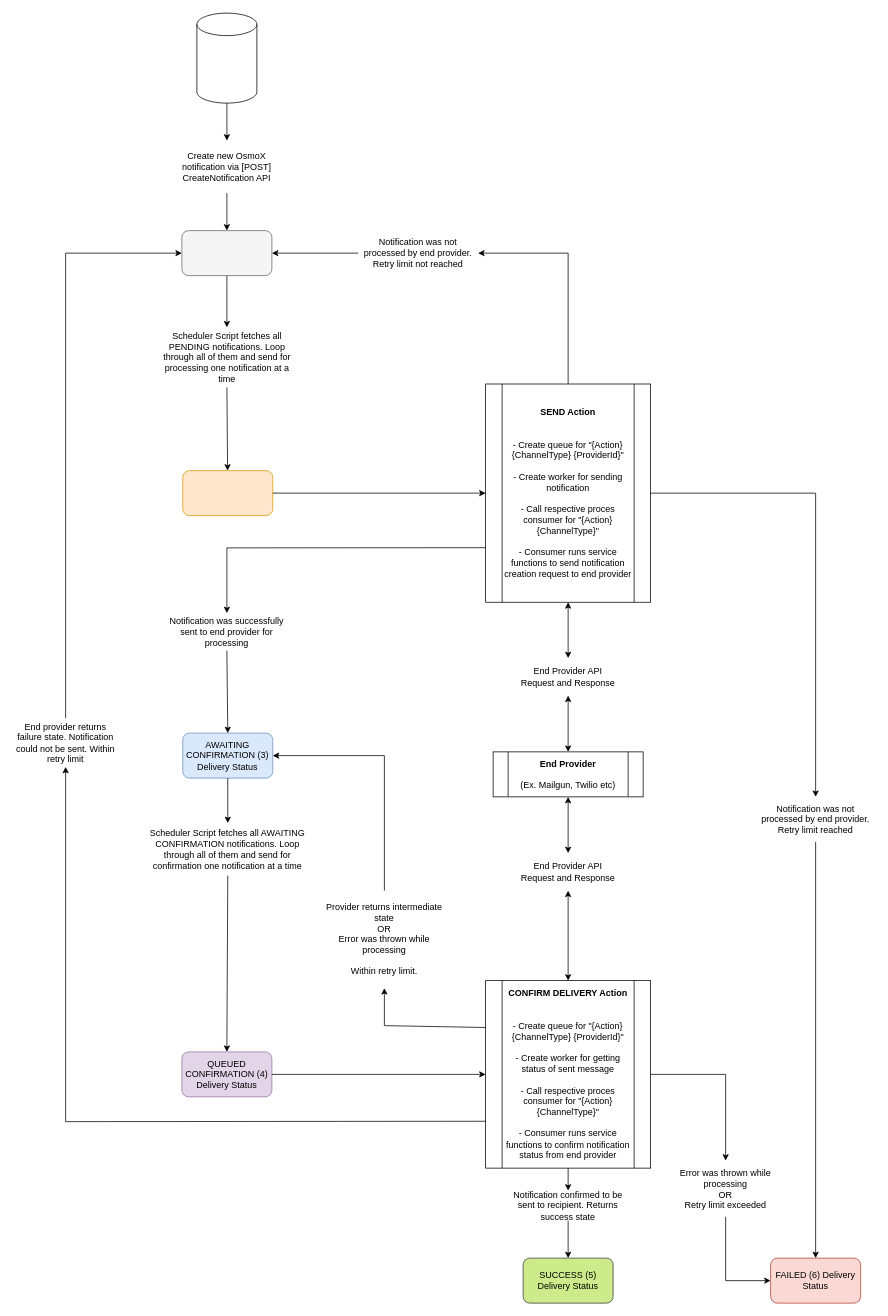
Some shapes in this 888 by 1316 pixel diagram are drawn without their labels. The box of each missing label's shape, as (x1, y1, x2, y2) in pixels:
IN PROGRESS (2) Delivery Status: (182, 470, 273, 516)
PENDING (1) Delivery Status: (181, 230, 272, 276)
Start: OsmoX API Call: (196, 12, 257, 103)
